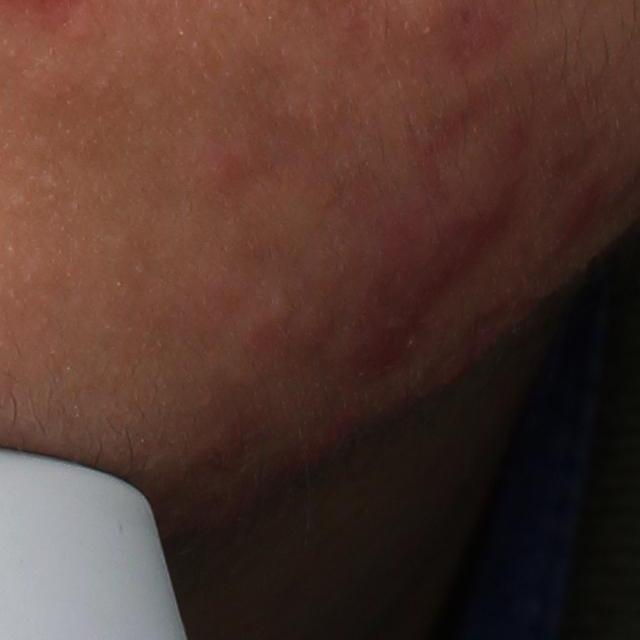nodule: (336, 159, 526, 391)
papule: (196, 140, 257, 210)
